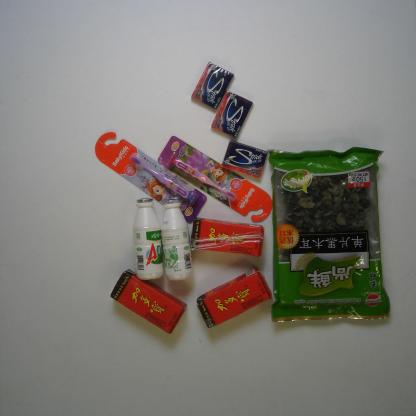Dried Food: (263, 145, 392, 325)
Drink: (109, 267, 189, 337), (195, 264, 275, 331), (188, 216, 266, 258)
Gum: (188, 59, 237, 112), (210, 88, 254, 140), (220, 138, 268, 180)
Milk: (159, 197, 194, 282), (132, 197, 165, 281)
Personal Hygiene: (93, 131, 208, 225), (157, 134, 274, 223)
